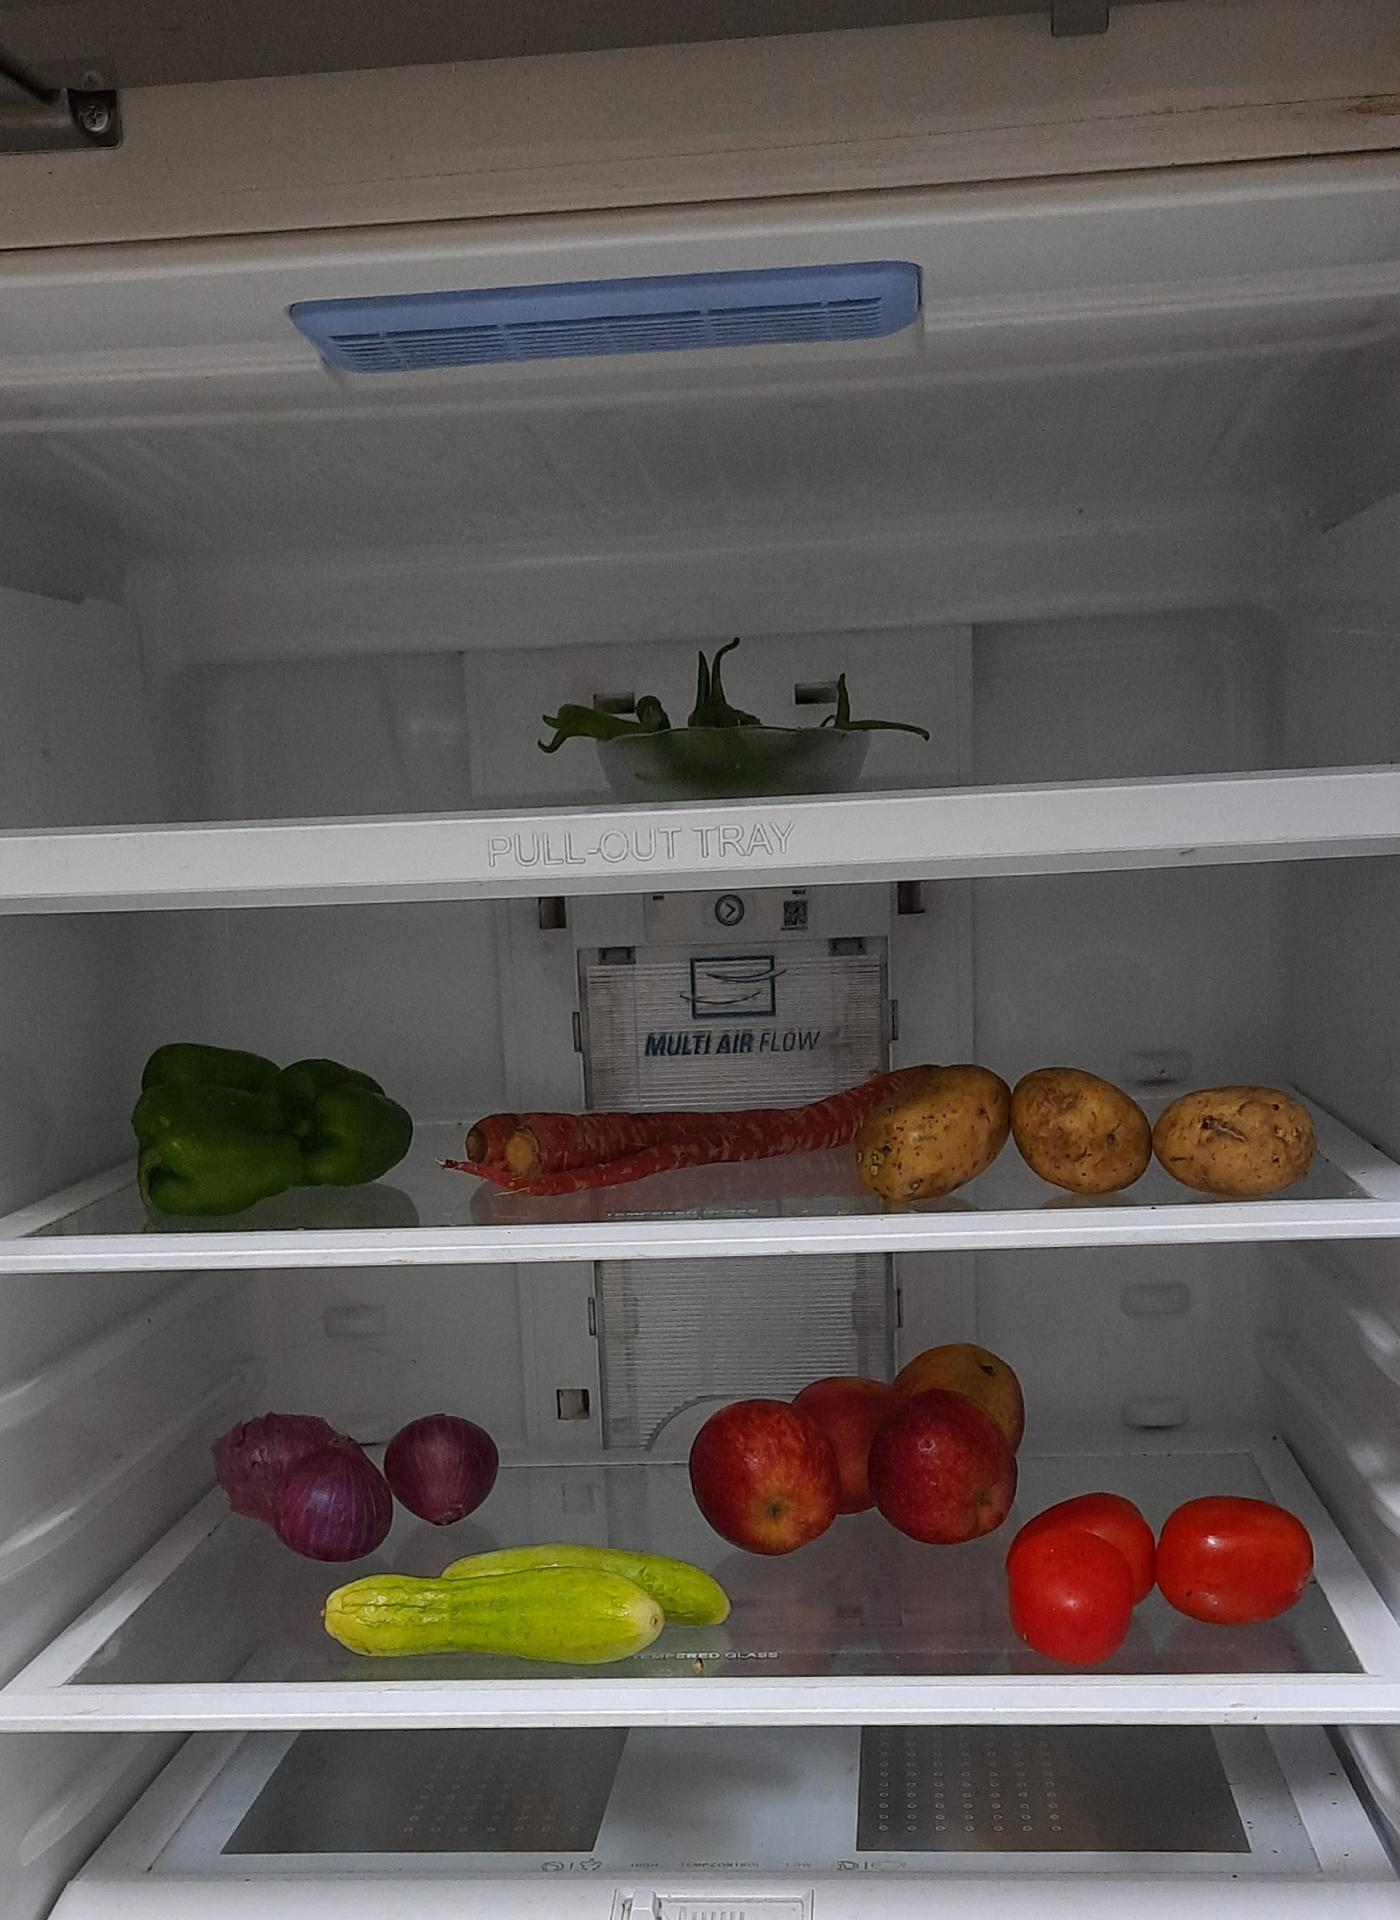apple: (683, 1334, 1026, 1558)
capsicum: (128, 1036, 425, 1219)
carrots: (450, 1058, 944, 1206)
chillies: (532, 635, 929, 759)
cucumber: (319, 1549, 729, 1667)
onion: (216, 1400, 507, 1562)
potato: (862, 1063, 1317, 1201)
tomato: (1015, 1500, 1321, 1661)
